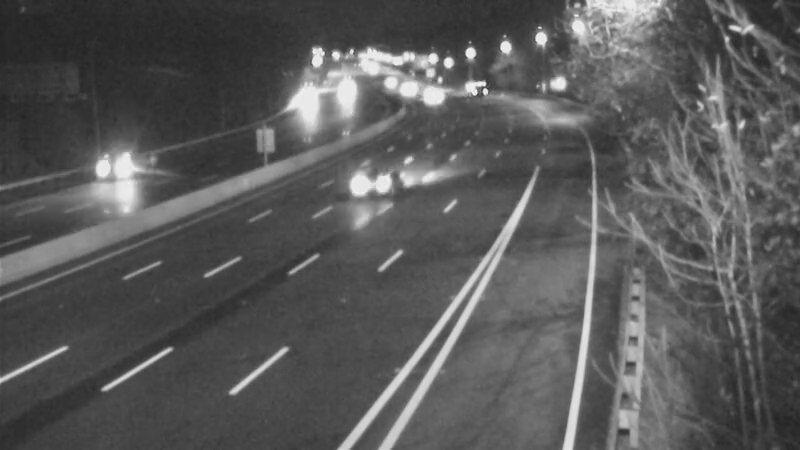vehicle: (334, 146, 414, 226), (73, 126, 153, 206), (446, 64, 496, 114), (384, 65, 434, 115), (407, 72, 457, 122)
